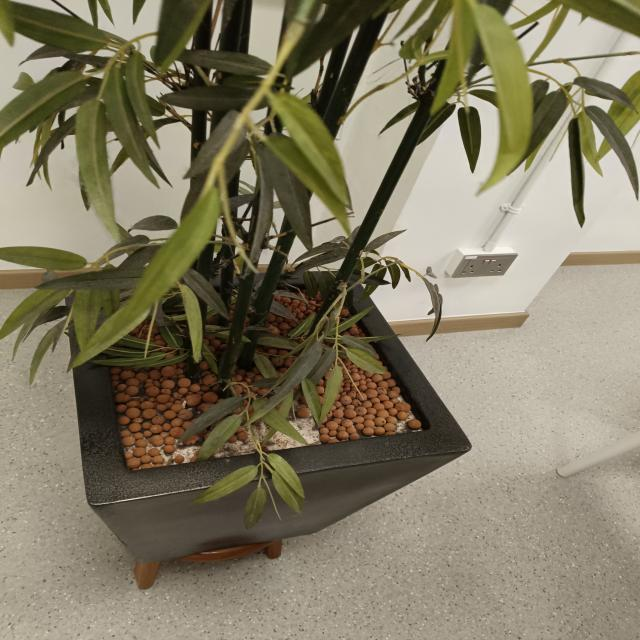Pot: (59, 264, 478, 562)
